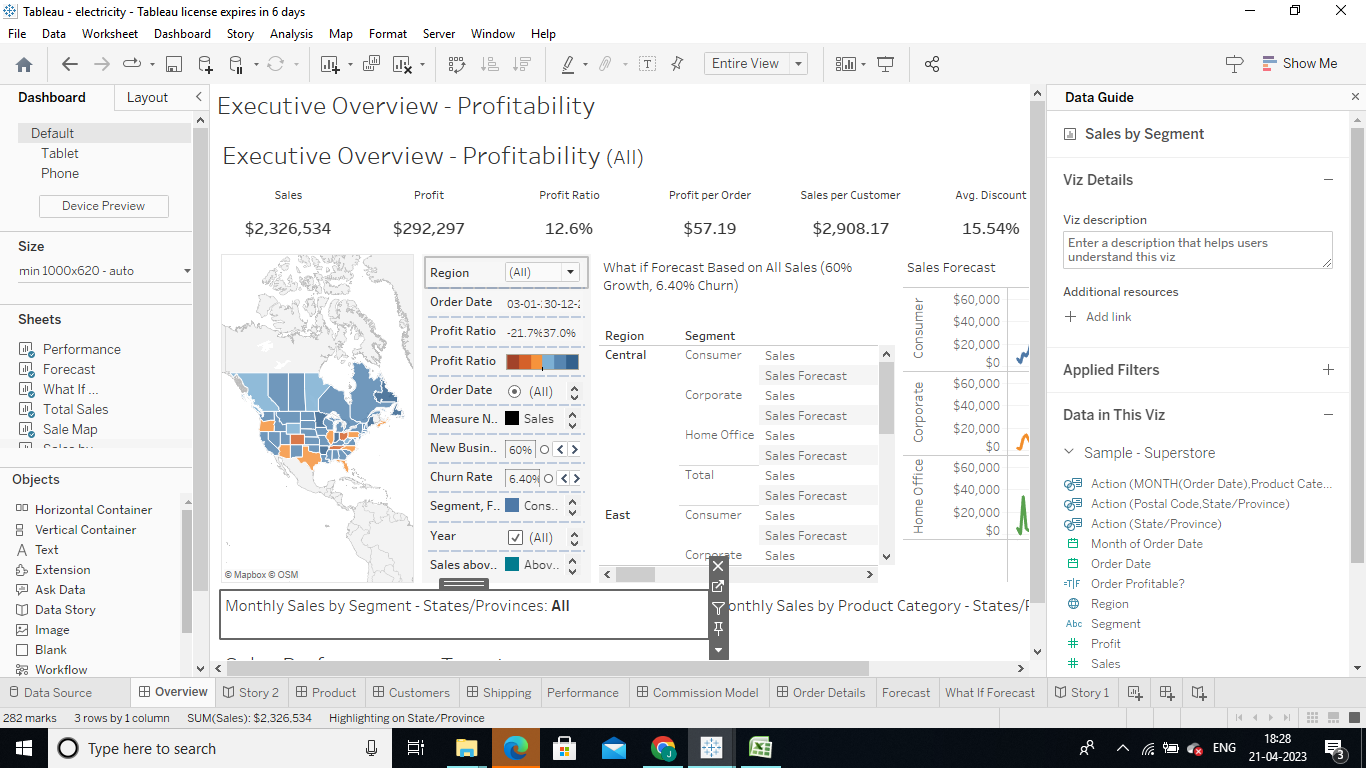

What the dashboard file says about the page in this screenshot:
{"tool":"tableau","page":{"name":"Overview","canvas":[1000,1000],"units":"permille","ordinal":3},"visuals":[{"type":"title","box":[0,0,1000,67.7]},{"type":"worksheet","title":"Total Sales","mark":"Automatic","box":[7,79,986,188.7]},{"type":"worksheet","title":"Sale Map","mark":"Multipolygon","box":[7,267.7,201,543.5]},{"type":"worksheet","title":"What If Forecast","mark":"Automatic","rows":["Region","Segment"],"cols":["Order Date","Order Date"],"box":[385,267.7,304,543.5]},{"type":"worksheet","title":"Forecast","mark":"Automatic","rows":["Segment","Sales"],"cols":["Order Date"],"box":[689,267.7,304,543.5]},{"type":"filter","title":"Sale Map","param":"[federated.10nnk8d1vgmw8q17yu76u06pnbcj].[none:Region:nk]","box":[216,280.6,161,47.1]},{"type":"filter","title":"Sale Map","param":"[federated.10nnk8d1vgmw8q17yu76u06pnbcj].[none:Order Date:qk]","box":[216,327.7,161,47.1]},{"type":"filter","title":"Sale Map","param":"[federated.10nnk8d1vgmw8q17yu76u06pnbcj].[usr:Calculation_9921103144103743:qk]","box":[216,374.8,161,47.1]},{"type":"legend","title":"Sale Map","param":"[federated.10nnk8d1vgmw8q17yu76u06pnbcj].[usr:Calculation_9921103144103743:qk]","box":[216,421.8,161,47.1]},{"type":"filter","title":"What If Forecast","param":"[federated.10nnk8d1vgmw8q17yu76u06pnbcj].[yr:Order Date:ok]","box":[216,468.9,161,47.1]},{"type":"legend","title":"What If Forecast","param":"[federated.10nnk8d1vgmw8q17yu76u06pnbcj].[:Measure Names]","box":[216,515.9,161,47.1]},{"type":"parameter","param":"[Parameters].[Parameter 1]","box":[216,563,161,47.1]},{"type":"parameter","param":"[Parameters].[Parameter 2]","box":[216,610.1,161,47.1]},{"type":"legend","title":"Forecast","param":"[federated.10nnk8d1vgmw8q17yu76u06pnbcj].[none:Segment:nk]\n[federated.10nnk8d1vg","box":[216,657.1,161,47.1]},{"type":"filter","title":"Performance","param":"[federated.10nnk8d1vgmw8q17yu76u06pnbcj].[yr:Order Date:ok]","box":[216,704.2,161,47.1]},{"type":"legend","title":"Performance","param":"[federated.10nnk8d1vgmw8q17yu76u06pnbcj].[usr:Calculation_9951107165644870:nk]","box":[216,751.2,161,47.1]},{"type":"worksheet","title":"Sales by Segment","mark":"Area","rows":["Segment","Sales"],"cols":["Order Date"],"box":[11,817.7,487,75.8]},{"type":"worksheet","title":"Sales by Product","mark":"Area","rows":["Category","Sales"],"cols":["Order Date"],"box":[498,817.7,491,75.8]},{"type":"worksheet","title":"Performance","mark":"Bar","rows":["Order Date","Order Date","Segment"],"cols":["Category","Sales"],"box":[7,900,986,88.7]}]}

Visuals, with their boxes on the dashboard's canvas, which has no fixed pixel size, in thousandths of its width and height (x1, y1, x2, y2). These are canvas units, not pixel positions in the 1366x768 screenshot, which may show the page scaled, cropped or inside an application window:
title: box=[0, 0, 1000, 68]
"Total Sales" worksheet: box=[7, 79, 993, 268]
"Sale Map" worksheet (Multipolygon marks): box=[7, 268, 208, 811]
"What If Forecast" worksheet: box=[385, 268, 689, 811]
"Forecast" worksheet: box=[689, 268, 993, 811]
"Sale Map" filter: box=[216, 281, 377, 328]
"Sale Map" filter: box=[216, 328, 377, 375]
"Sale Map" filter: box=[216, 375, 377, 422]
"Sale Map" legend: box=[216, 422, 377, 469]
"What If Forecast" filter: box=[216, 469, 377, 516]
"What If Forecast" legend: box=[216, 516, 377, 563]
parameter: box=[216, 563, 377, 610]
parameter: box=[216, 610, 377, 657]
"Forecast" legend: box=[216, 657, 377, 704]
"Performance" filter: box=[216, 704, 377, 751]
"Performance" legend: box=[216, 751, 377, 798]
"Sales by Segment" worksheet (Area marks): box=[11, 818, 498, 894]
"Sales by Product" worksheet (Area marks): box=[498, 818, 989, 894]
"Performance" worksheet (Bar marks): box=[7, 900, 993, 989]
